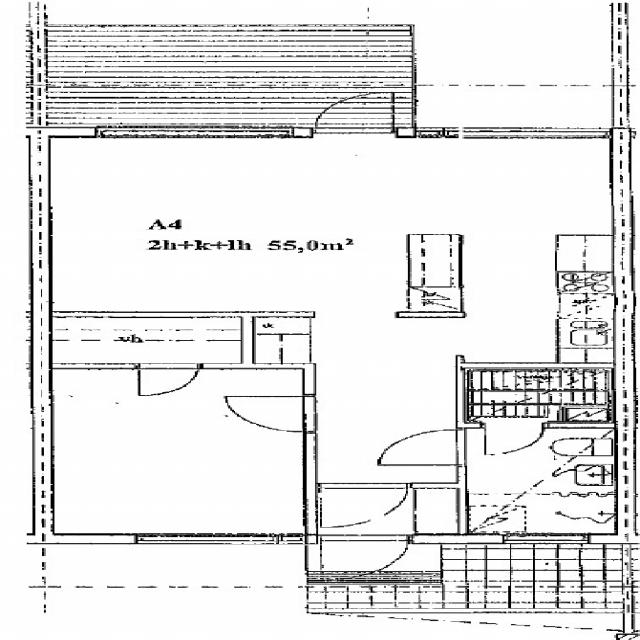door: (319, 532, 407, 582), (318, 482, 405, 528), (314, 93, 393, 138), (226, 396, 316, 431), (376, 430, 466, 464), (137, 362, 196, 394), (483, 422, 542, 454)
